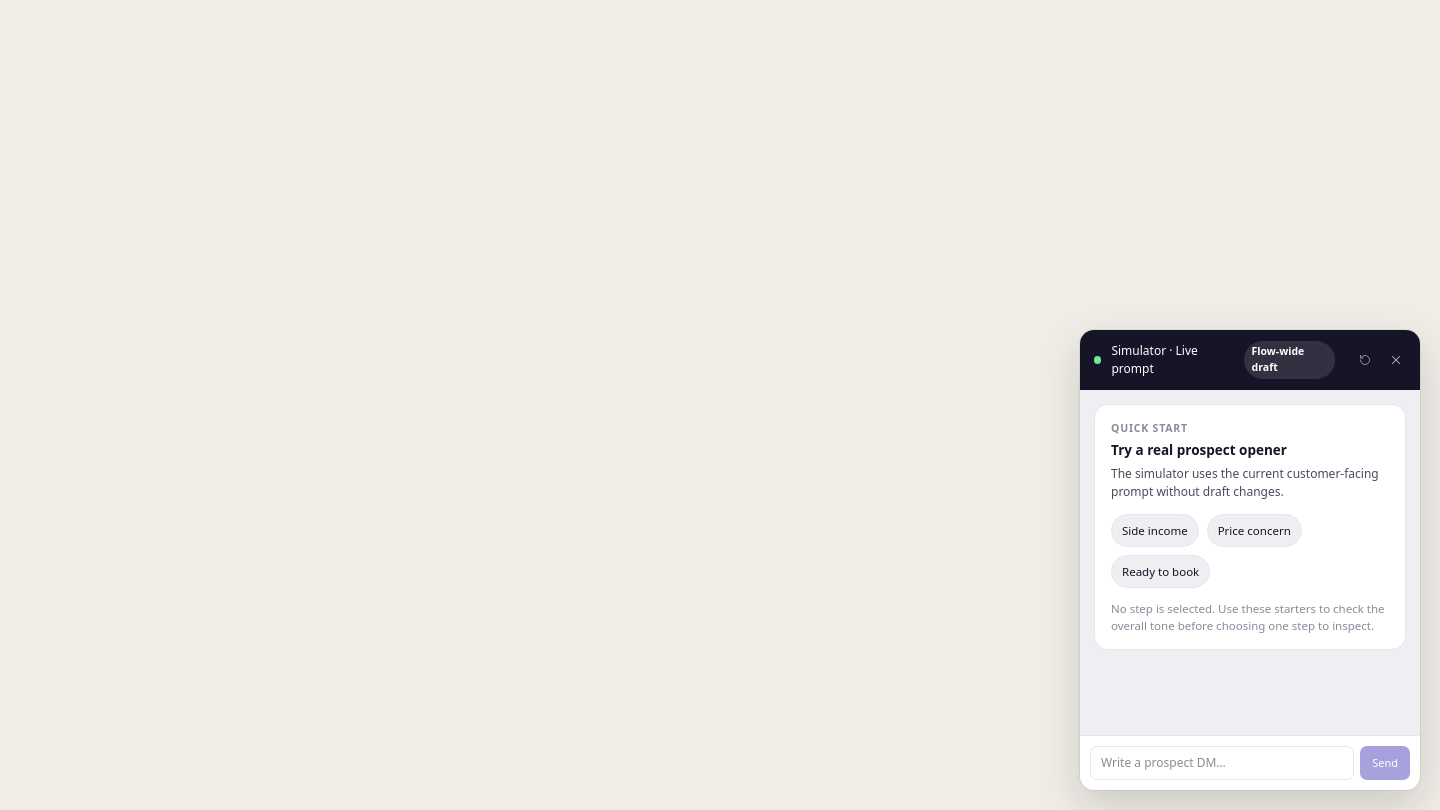
Test: BSimFloat — overrides pass-through › recovers when the server action rejects
In the field with placeholder "Write a prospect DM…": (1222, 763) [1090, 746, 1354, 780], type "hello"
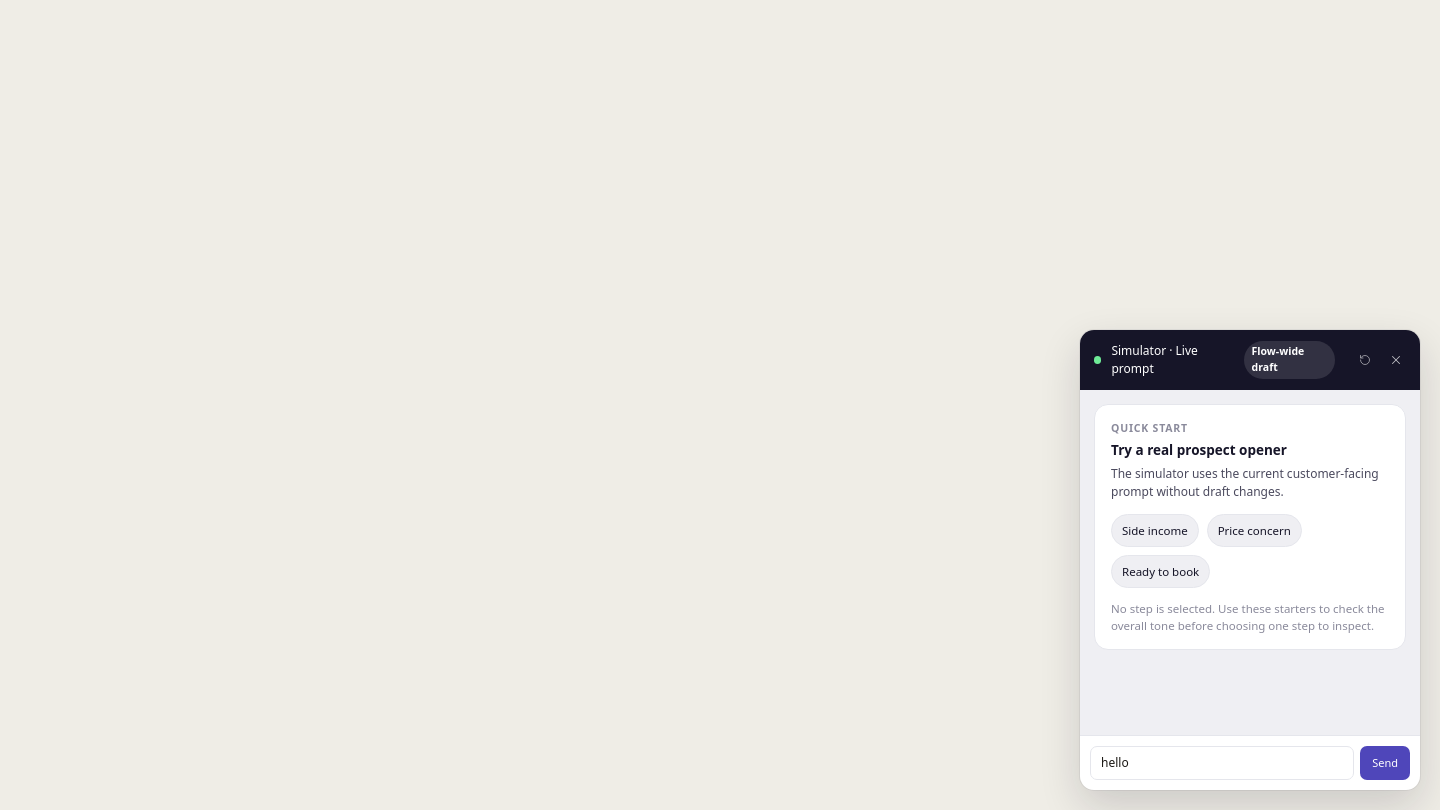
Click the button "Send": (1385, 763) [1360, 746, 1410, 780]
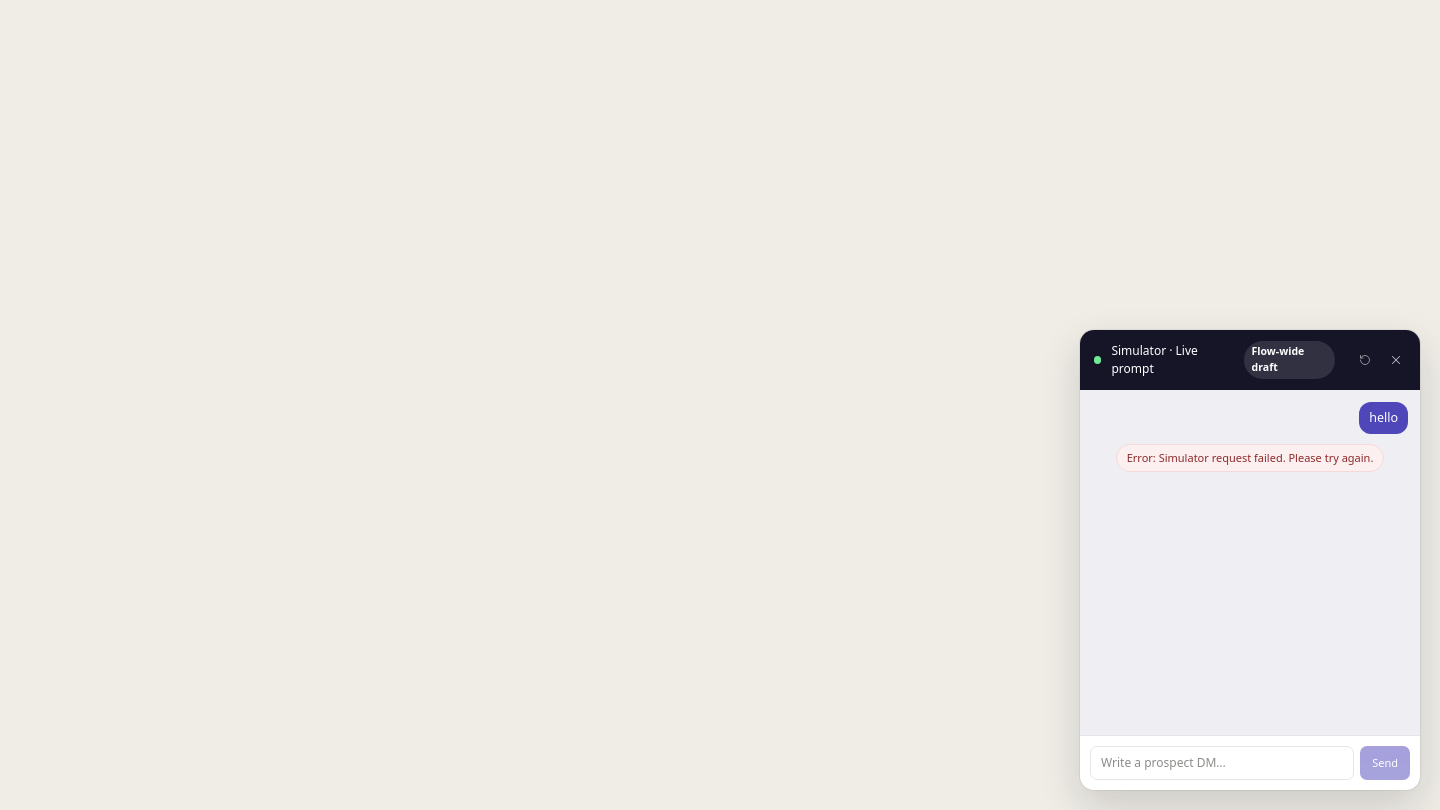
Result: the text "Error: Simulator request failed. Please try again." is shown at [1116, 444, 1384, 472]
Result: the button "Send" is disabled at [1360, 746, 1410, 780]
In the field with placeholder "Write a prospect DM…": (1222, 763) [1090, 746, 1354, 780], type "retry"
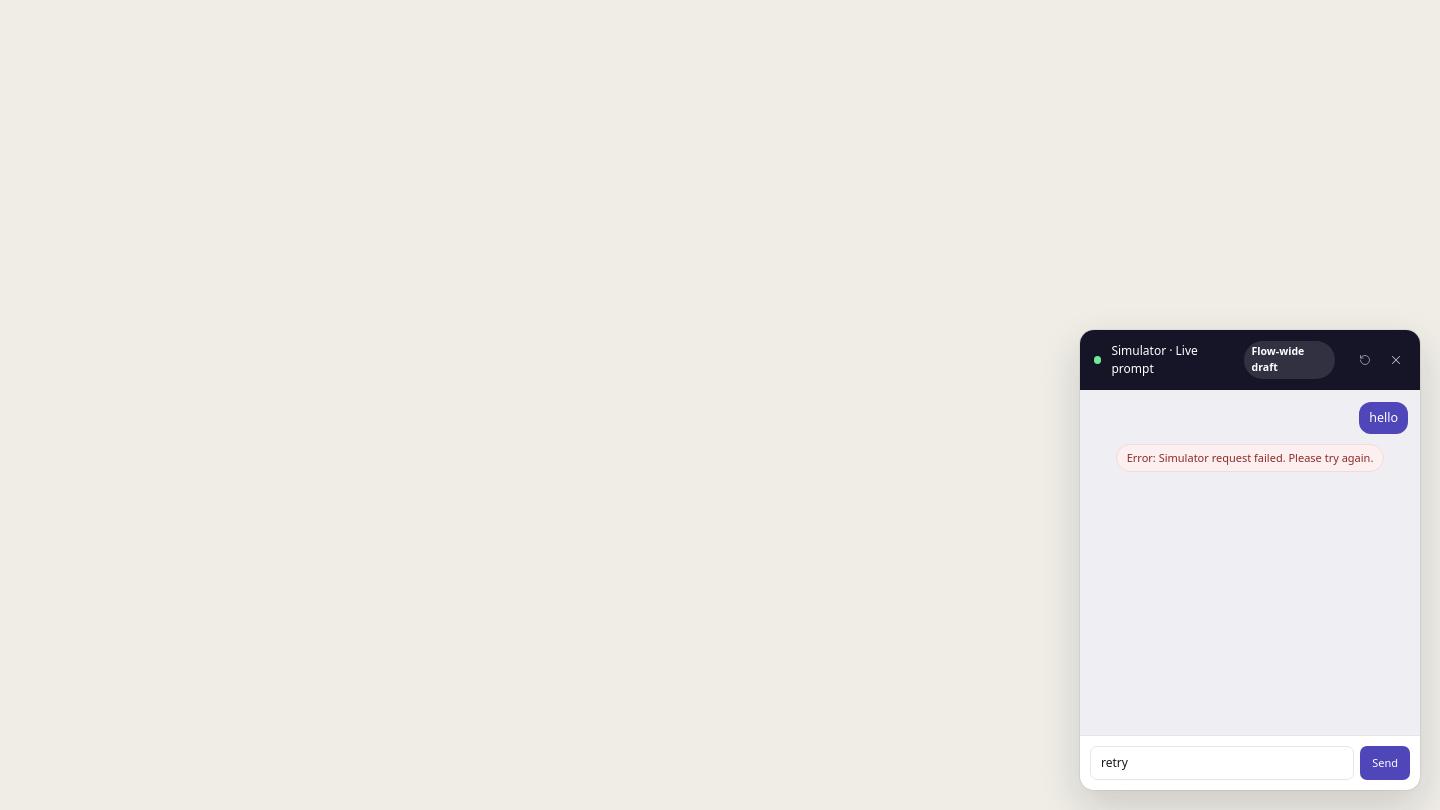
Click the button "Send": (1385, 763) [1360, 746, 1410, 780]
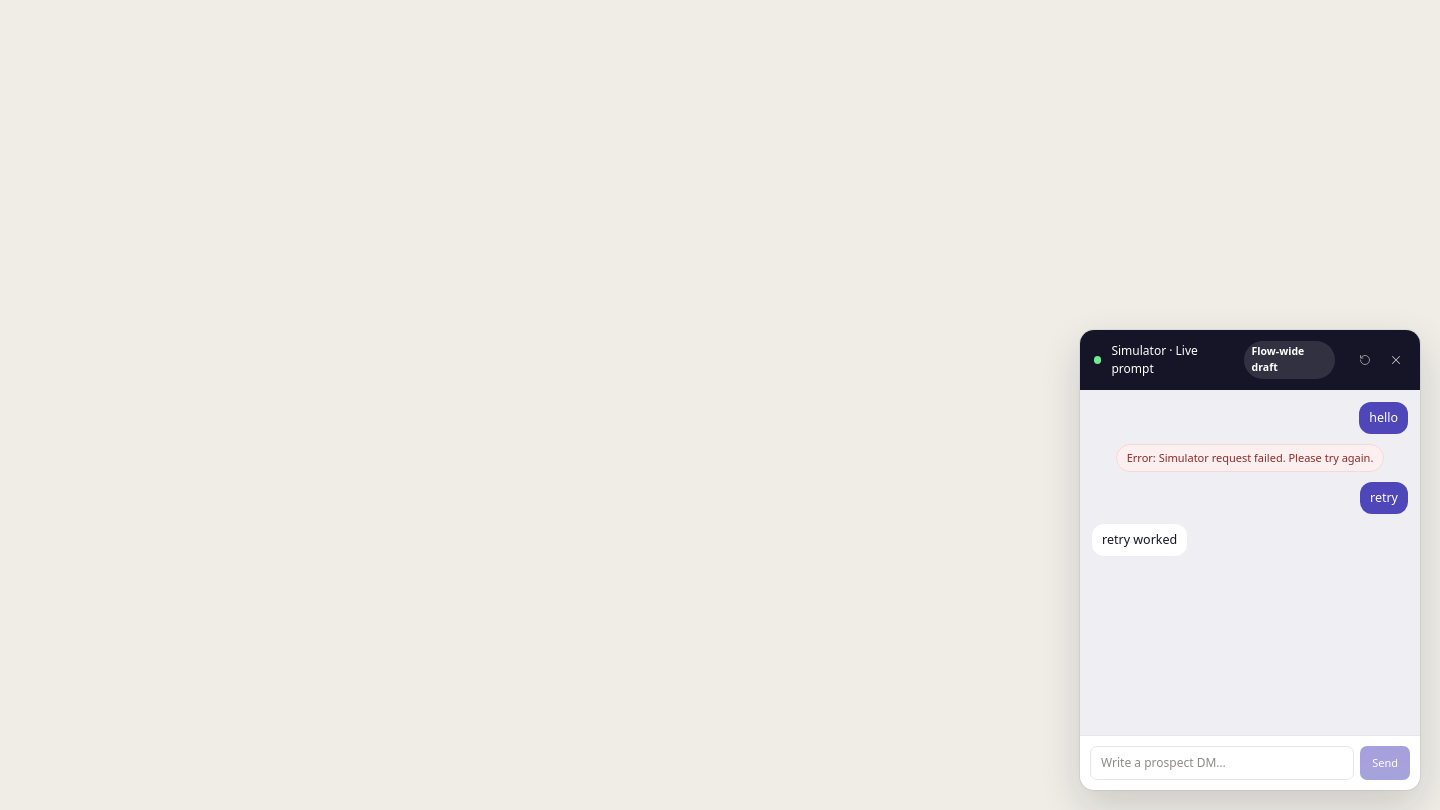
Result: the text "retry worked" is shown at [1092, 524, 1187, 556]
